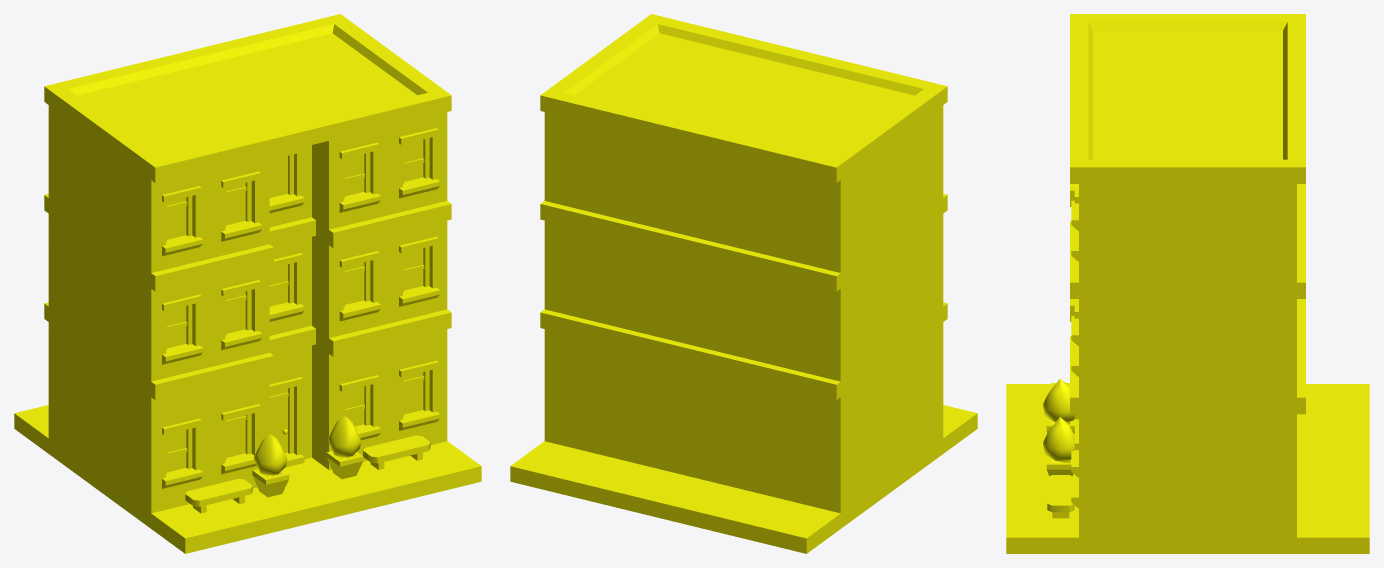
File: kaykit-building-f.glb
The picture shows the model from 3 angles, left to right: view 1: azimuth 30°, elevation 25°; view 2: azimuth 150°, elevation 25°; view 3: azimuth 270°, elevation 25°; orthographic projection. The views are drawn at different scales.
Parts seen in each view (by area): view 1: building_F; view 2: building_F; view 3: building_F.
Part boxes in pixels (x1,y1,x2,y2): building_F: (14, 14, 481, 553); building_F: (510, 14, 977, 553); building_F: (1006, 14, 1369, 553).
Size of the model in its own units: 2.01 by 2.35 by 2.
